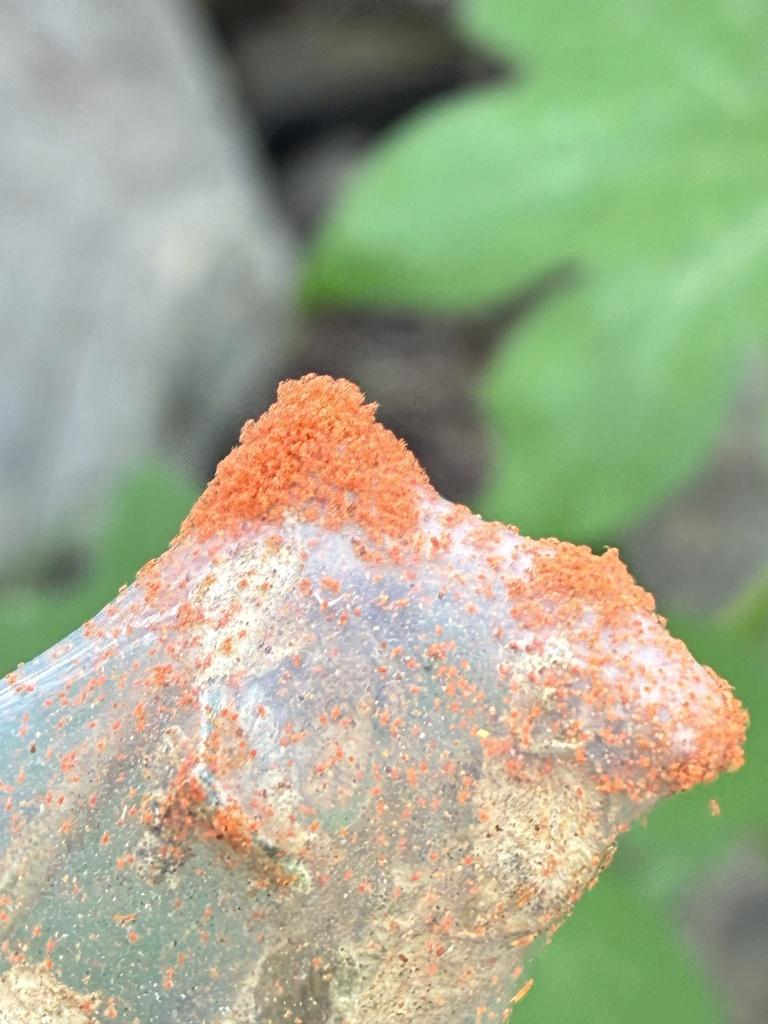tiny_pests: (171, 352, 459, 567), (151, 730, 294, 859), (519, 514, 663, 628), (697, 662, 768, 796)
